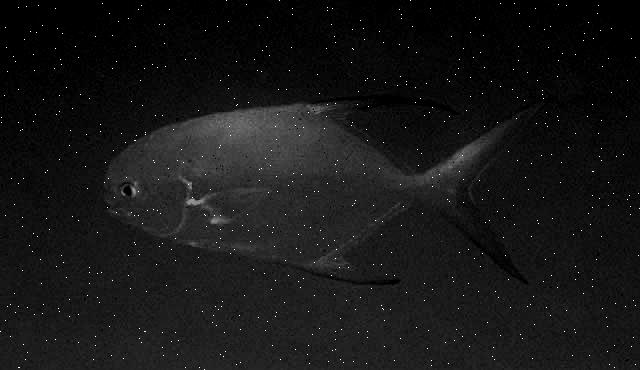Mulut: (87, 171, 147, 241)
Sirip Anal: (285, 244, 423, 312)
Sirip Dada: (178, 166, 286, 242)
Sirip Ekor: (410, 88, 570, 294)
Sirip Punggung: (286, 82, 468, 142)
